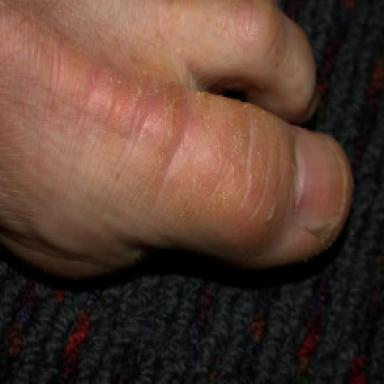eczema: (97, 65, 296, 234)
